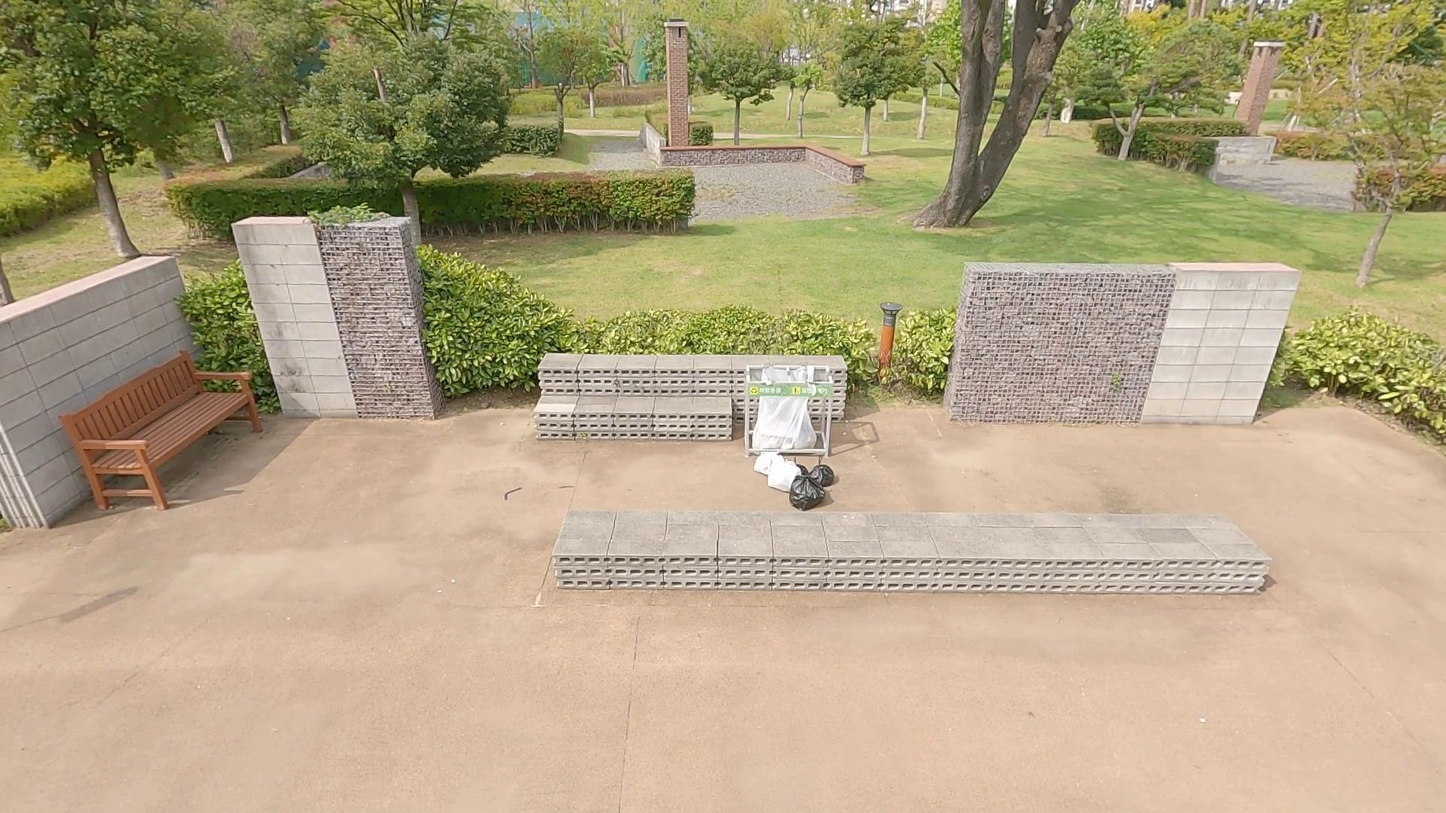trash: (787, 474, 827, 510), (767, 458, 802, 493), (755, 452, 787, 477), (807, 455, 833, 484), (785, 457, 809, 482)
